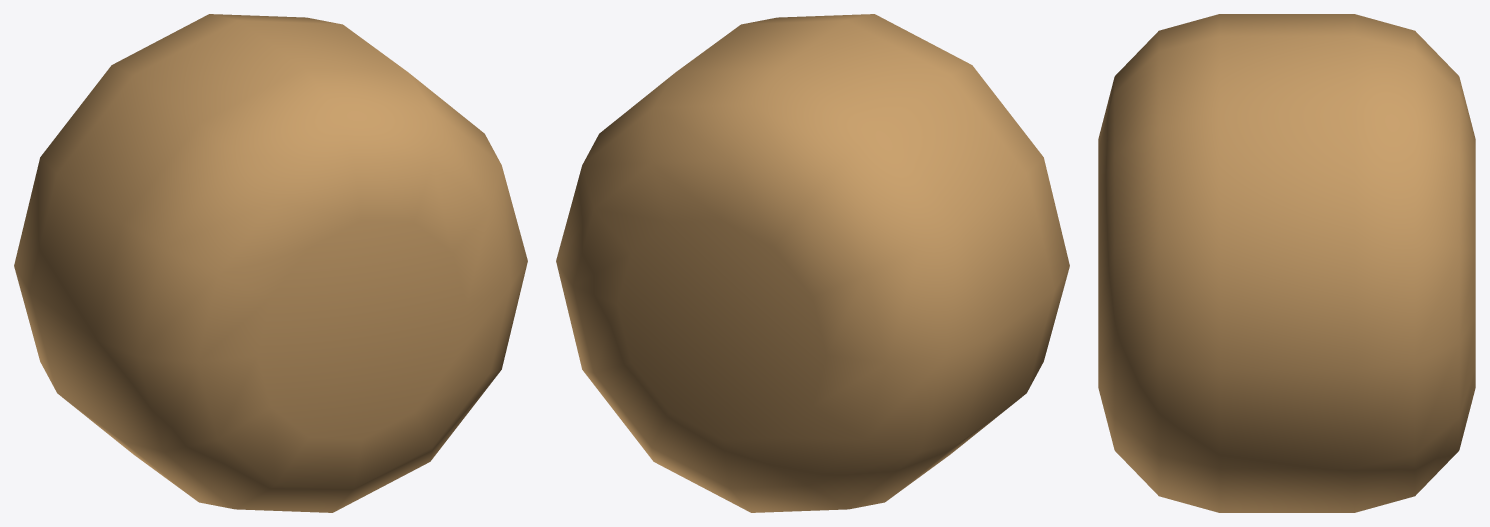
Rendered from singlePipe_mesh.fbx.
The picture shows the model from 3 angles, left to right: view 1: azimuth 30°, elevation 25°; view 2: azimuth 150°, elevation 25°; view 3: azimuth 270°, elevation 25°; orthographic projection. The views are drawn at different scales.
Visible parts, largest first — view 1: singlePipe; view 2: singlePipe; view 3: singlePipe.
Part boxes in pixels (x1,y1,x2,y2): singlePipe: [14, 14, 527, 512]; singlePipe: [556, 14, 1069, 512]; singlePipe: [1098, 14, 1475, 512].
Size of the model in its own units: 0.2878 by 0.2878 by 0.2167.
